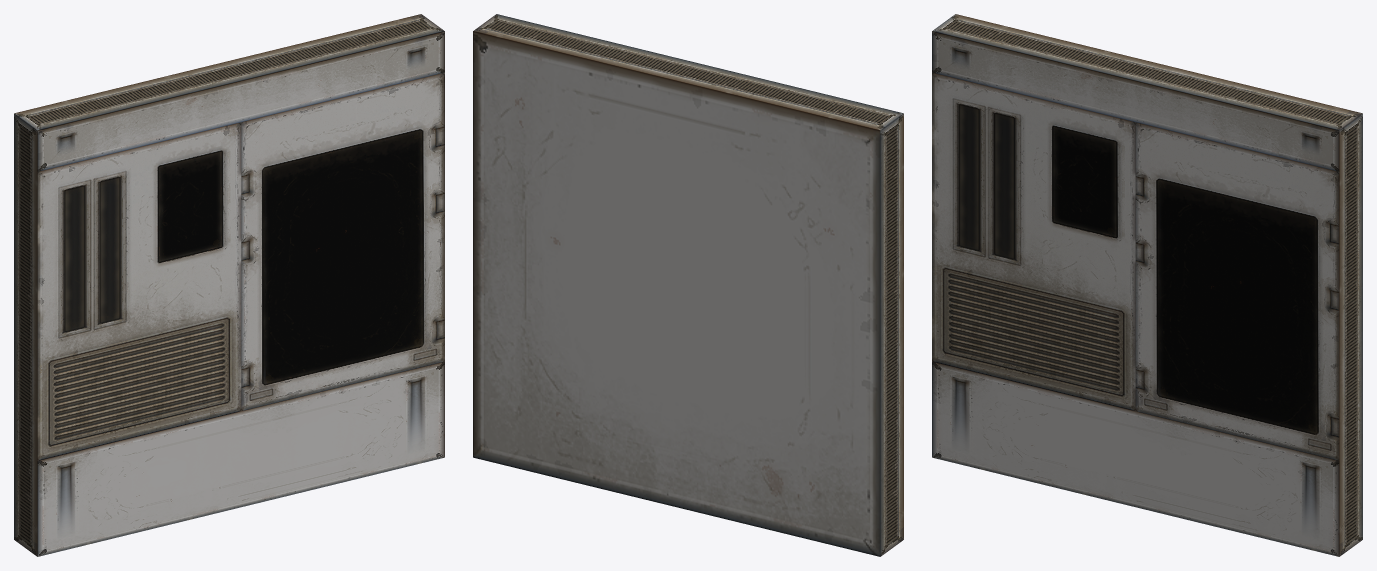
Rendered from scifi_wall1_10.FBX.
3 views of the same model, side by side, from view 1: azimuth 30°, elevation 25°; view 2: azimuth 150°, elevation 25°; view 3: azimuth 330°, elevation 25° (orthographic).
Visible parts, largest first — view 1: Plane012; view 2: Plane012; view 3: Plane012.
Part boxes in pixels (left/top/right/bottom): Plane012: left=14, top=14, right=444, bottom=556; Plane012: left=473, top=14, right=903, bottom=556; Plane012: left=932, top=14, right=1362, bottom=556.
Bounding box in the file's own units: 254 × 254 × 25.4.
